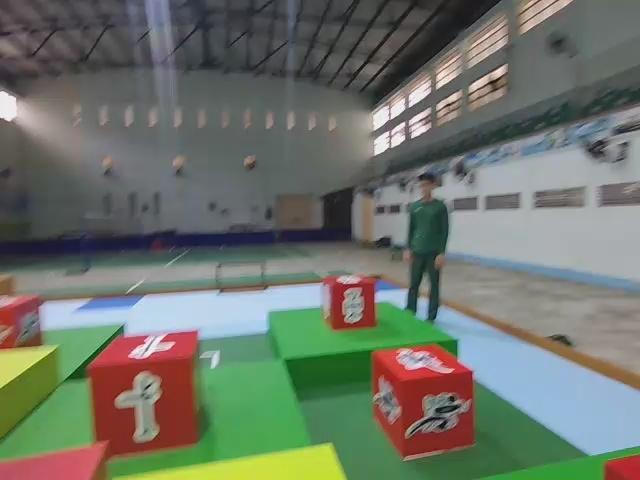R1: (369, 340, 480, 462), (0, 289, 44, 354)
R2 Real: (82, 332, 209, 457), (318, 271, 379, 332)
